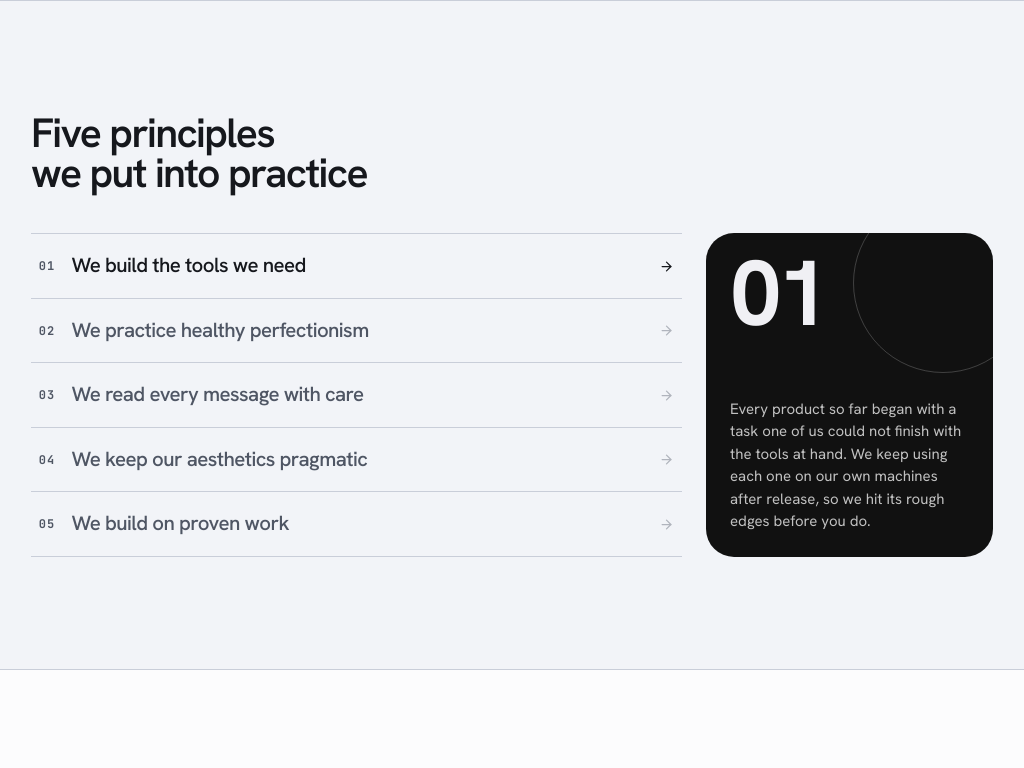
Test: Practices › commits on a click
The image size is (1024, 768).
Click the tab "03 We read every message with care".
click(357, 395)  # box [31,362,682,427]
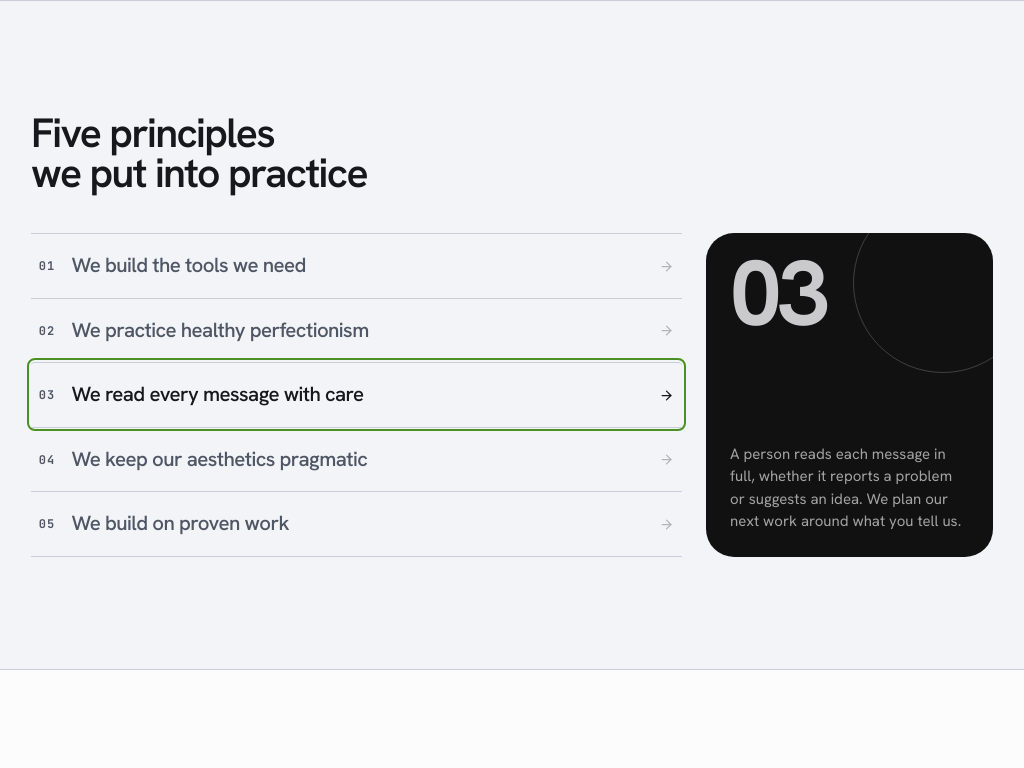
Check: the panel shows "03", box [730,233,826,353]
